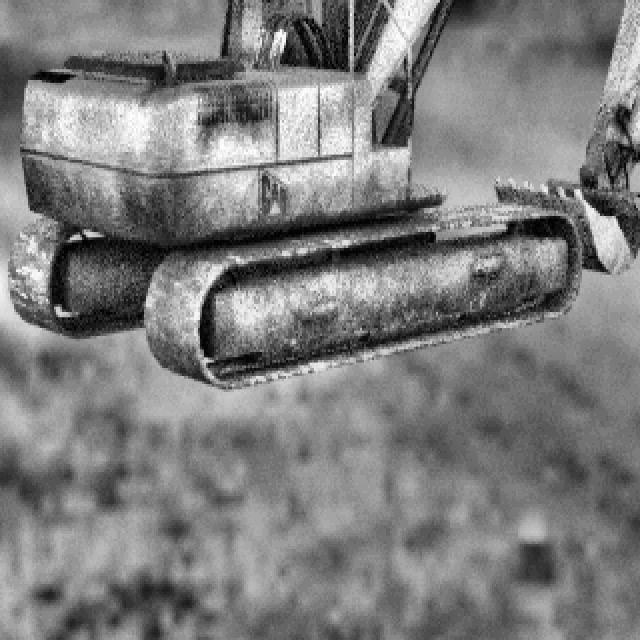excavator: (6, 0, 640, 387)
